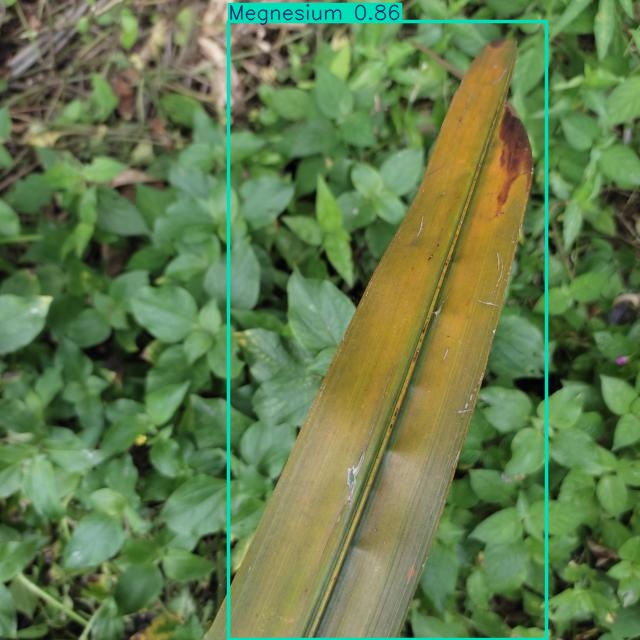Megnesium: (228, 21, 547, 639)
